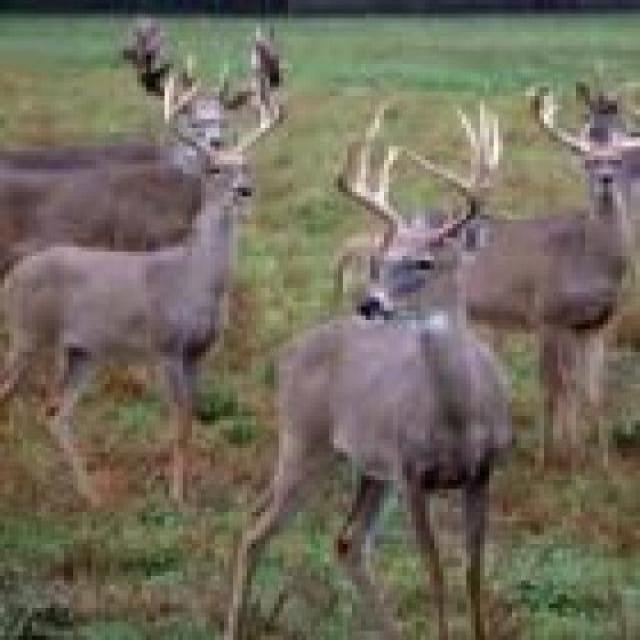deer: (242, 190, 611, 574), (35, 94, 350, 429), (430, 107, 640, 378)
